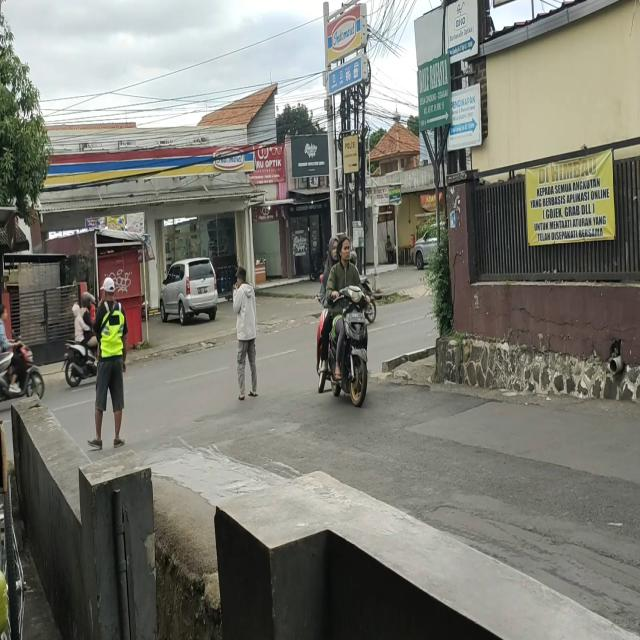helmet: (82, 293, 94, 309)
no-helmet: (338, 236, 352, 261), (328, 237, 338, 260), (0, 302, 8, 322), (72, 304, 80, 316)
